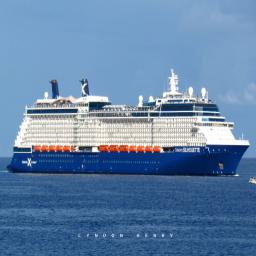cruises: (6, 69, 253, 182)
